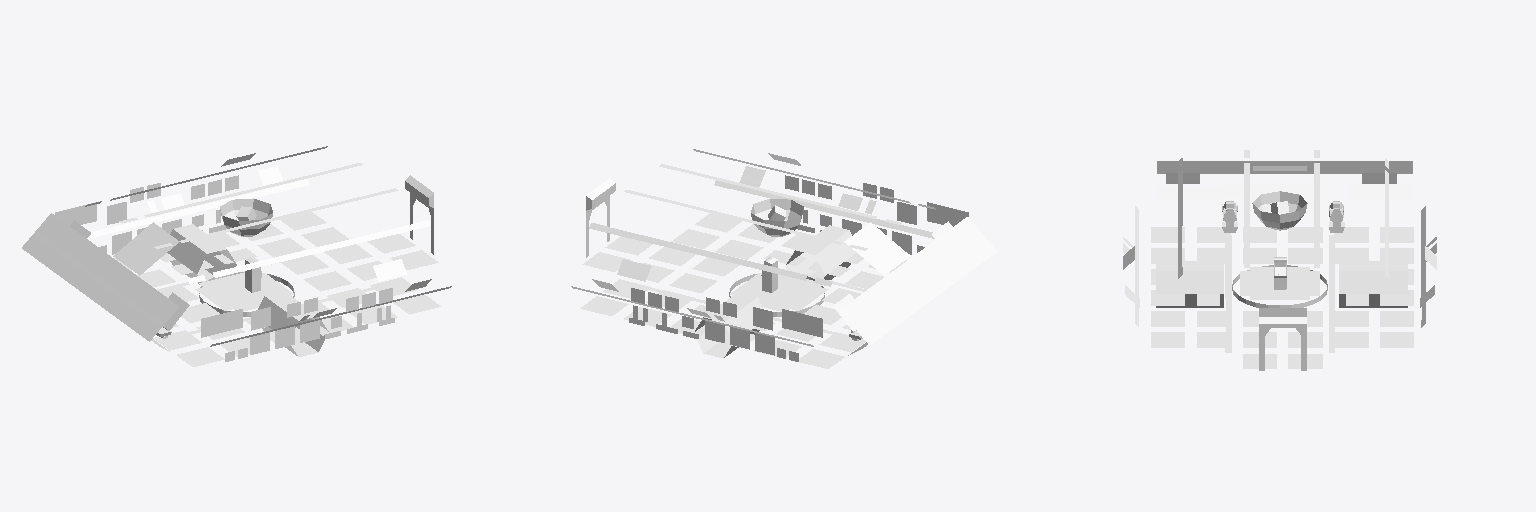
The model's file is GAL.obj.
3 views of the same model, side by side, from view 1: azimuth 30°, elevation 25°; view 2: azimuth 150°, elevation 25°; view 3: azimuth 270°, elevation 25° (orthographic).
Visible parts, largest first — view 1: GAL; view 2: GAL; view 3: GAL.
Part boxes in pixels (left/top/right/bottom): GAL: left=22, top=146, right=451, bottom=366; GAL: left=571, top=149, right=997, bottom=368; GAL: left=1123, top=150, right=1436, bottom=370.
Size of the model in its own units: 233 by 67.84 by 189.